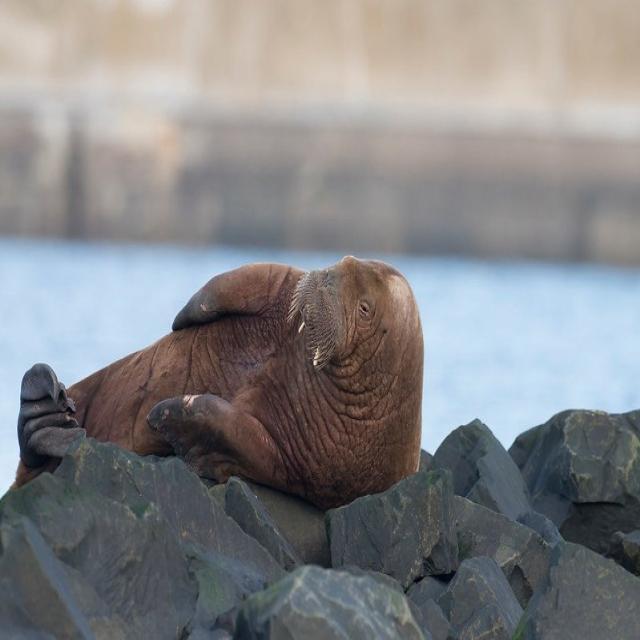walrus: (38, 133, 440, 521)
